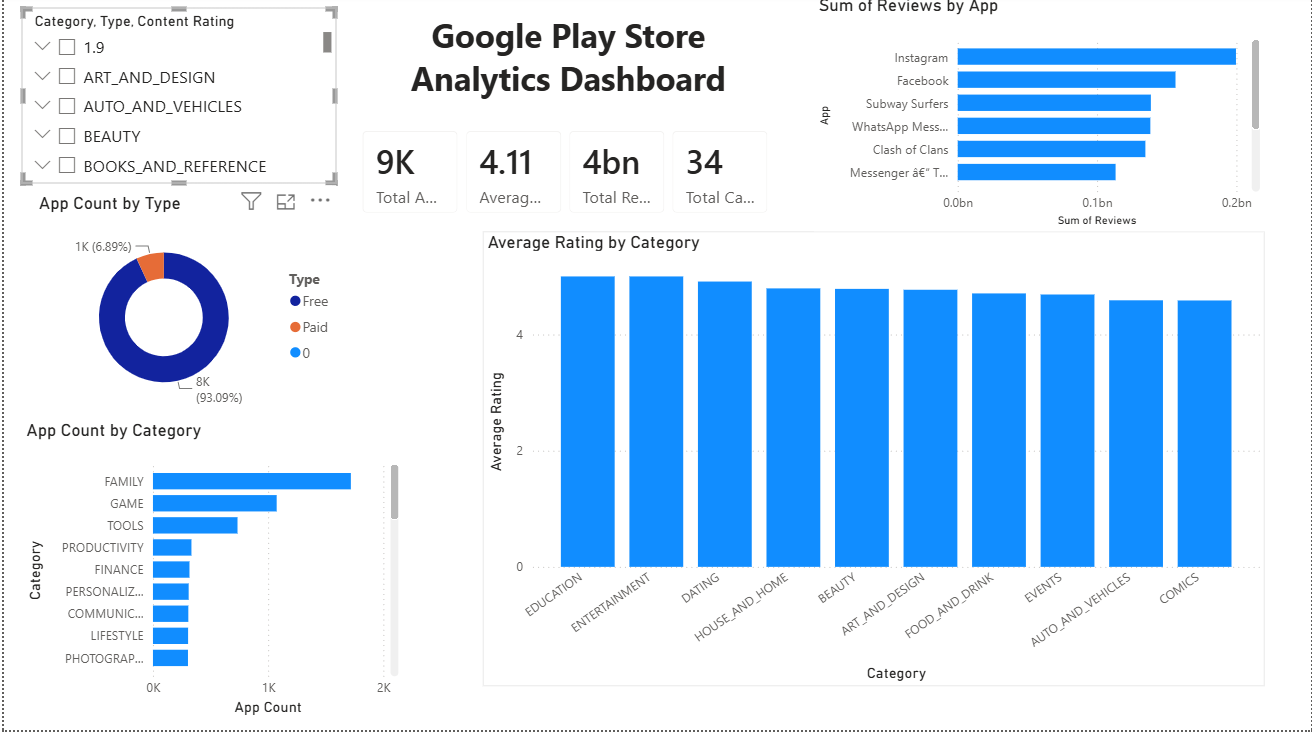

Layout of this report page (visuals, bound fields, positions):
{"tool":"powerbi","page":{"name":"Page 1","canvas":[1280,720],"ordinal":0},"visuals":[{"type":"cardVisual","fields":{"Data":["Google_Play_Store_data.Total Apps","Google_Play_Store_data.Average Rating","Google_Play_Store_data.Total Reviews","Google_Play_Store_data.Total Categories"]},"box":[333.8,116.2,432.9,114.9],"z":0},{"type":"clusteredBarChart","fields":{"Category":["Google_Play_Store_data.Category"],"Y":["Google_Play_Store_data.App Count"]},"box":[17.1,415.8,374.2,293.5],"z":1000},{"type":"donutChart","fields":{"Category":["Google_Play_Store_data.Type"],"Y":["Google_Play_Store_data.App Count"]},"box":[29.3,193.2,304.5,214],"z":2000},{"type":"clusteredColumnChart","fields":{"Category":["Google_Play_Store_data.Category"],"Y":["Google_Play_Store_data.Average Rating"]},"box":[468.3,231.1,765.5,445.1],"z":3000},{"type":"clusteredBarChart","fields":{"Category":["Google_Play_Store_data.App"],"Y":["Sum(Google_Play_Store_data.Reviews)"]},"box":[792.4,0,441.4,231.1],"z":4000},{"type":"slicer","fields":{"Values":["Google_Play_Store_data.Category","Google_Play_Store_data.Type","Google_Play_Store_data.Content Rating"]},"box":[17.1,12.2,308.2,172.4],"z":5000},{"type":"textbox","box":[325.3,12.2,453.7,103.9],"z":6000}]}

Visuals, with their boxes in screenshot pixels (x1, y1, x2, y2), scaled from the page's 1280x720 canvas onto the 1312x732 screenshot:
cardVisual - Google_Play_Store_data.Total Apps x Google_Play_Store_data.Average Rating: l=342, t=118, r=786, b=235
clusteredBarChart - Google_Play_Store_data.Category x Google_Play_Store_data.App Count: l=18, t=423, r=401, b=721
donutChart - Google_Play_Store_data.Type x Google_Play_Store_data.App Count: l=30, t=196, r=342, b=414
clusteredColumnChart - Google_Play_Store_data.Category x Google_Play_Store_data.Average Rating: l=480, t=235, r=1265, b=687
clusteredBarChart - Google_Play_Store_data.App x Sum(Google_Play_Store_data.Reviews): l=812, t=0, r=1265, b=235
slicer - Google_Play_Store_data.Category x Google_Play_Store_data.Type: l=18, t=12, r=333, b=188
textbox: l=333, t=12, r=798, b=118
